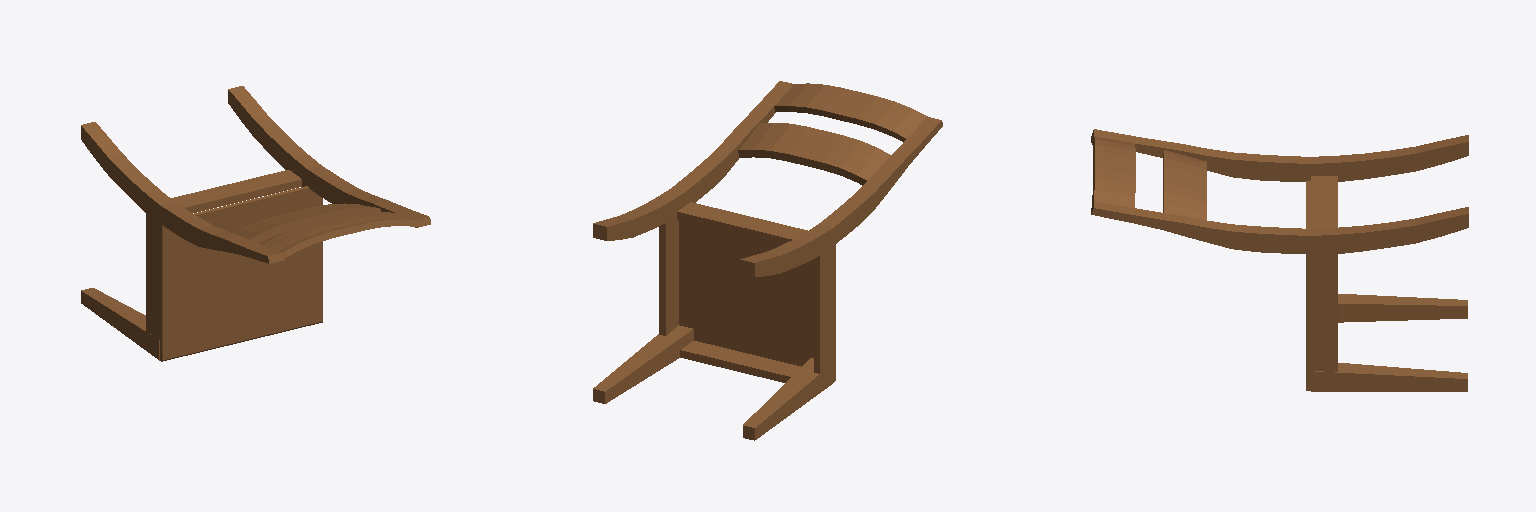
Rendered from Straight_Leg_Chair_Honey_V1.obj.
The picture shows the model from 3 angles: view 1: azimuth 30°, elevation 25°; view 2: azimuth 150°, elevation 25°; view 3: azimuth 270°, elevation 25°; orthographic projection.
Parts seen in each view (by area): view 1: Box698, Box697, Box702, Box695, Box701, Box705, Box696, Box704; view 2: Box698, Box697, Box702, Box696, Box695, Box699, Box705, Box701, Box700, Box704, Box703; view 3: Box702, Box697, Box699, Box703, Box705, Box695, Box696, Box701, Box698.
Part boxes in pixels (left/top/right/bottom): Box698: left=159, top=186, right=322, bottom=361; Box697: left=81, top=122, right=283, bottom=263; Box702: left=228, top=86, right=430, bottom=227; Box695: left=263, top=212, right=416, bottom=258; Box701: left=171, top=170, right=301, bottom=212; Box705: left=81, top=288, right=159, bottom=360; Box696: left=233, top=203, right=380, bottom=243; Box704: left=146, top=214, right=158, bottom=339; Box698: left=679, top=220, right=835, bottom=381; Box697: left=740, top=117, right=942, bottom=276; Box702: left=593, top=81, right=792, bottom=240; Box696: left=738, top=123, right=890, bottom=185; Box695: left=774, top=83, right=927, bottom=141; Box699: left=593, top=325, right=693, bottom=403; Box705: left=743, top=358, right=833, bottom=440; Box701: left=677, top=202, right=807, bottom=244; Box700: left=680, top=341, right=800, bottom=382; Box704: left=814, top=247, right=832, bottom=373; Box703: left=659, top=217, right=678, bottom=335; Box702: left=1091, top=201, right=1468, bottom=253; Box697: left=1091, top=129, right=1468, bottom=181; Box699: left=1311, top=363, right=1467, bottom=391; Box703: left=1311, top=254, right=1337, bottom=371; Box705: left=1338, top=294, right=1467, bottom=322; Box695: left=1092, top=136, right=1135, bottom=207; Box696: left=1163, top=150, right=1206, bottom=219; Box701: left=1311, top=176, right=1337, bottom=228; Box698: left=1306, top=181, right=1310, bottom=390.
Size of the model in its own units: 47.82 by 54.18 by 96.25.